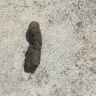Dog: (27, 22, 42, 73)
